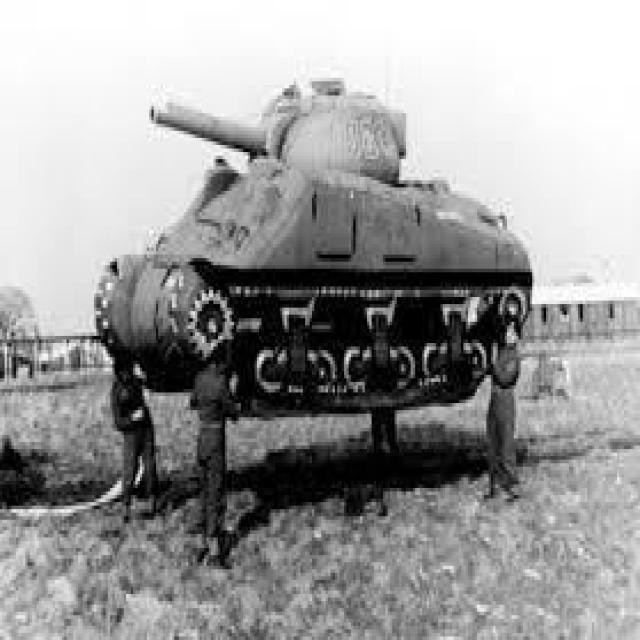Tanks: (94, 72, 535, 416)
